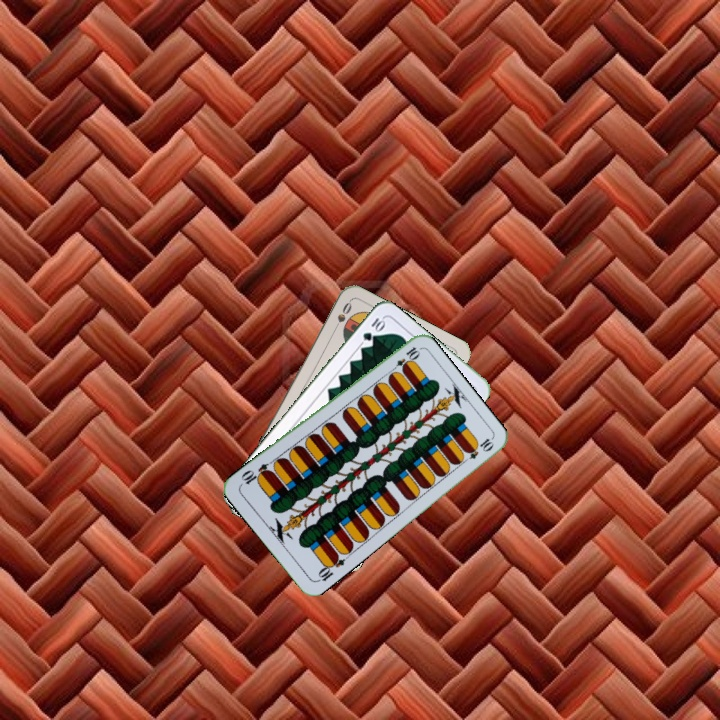E10: (313, 550, 347, 585), (387, 343, 422, 376)
G10: (358, 314, 388, 344)
SO: (328, 298, 354, 335)
